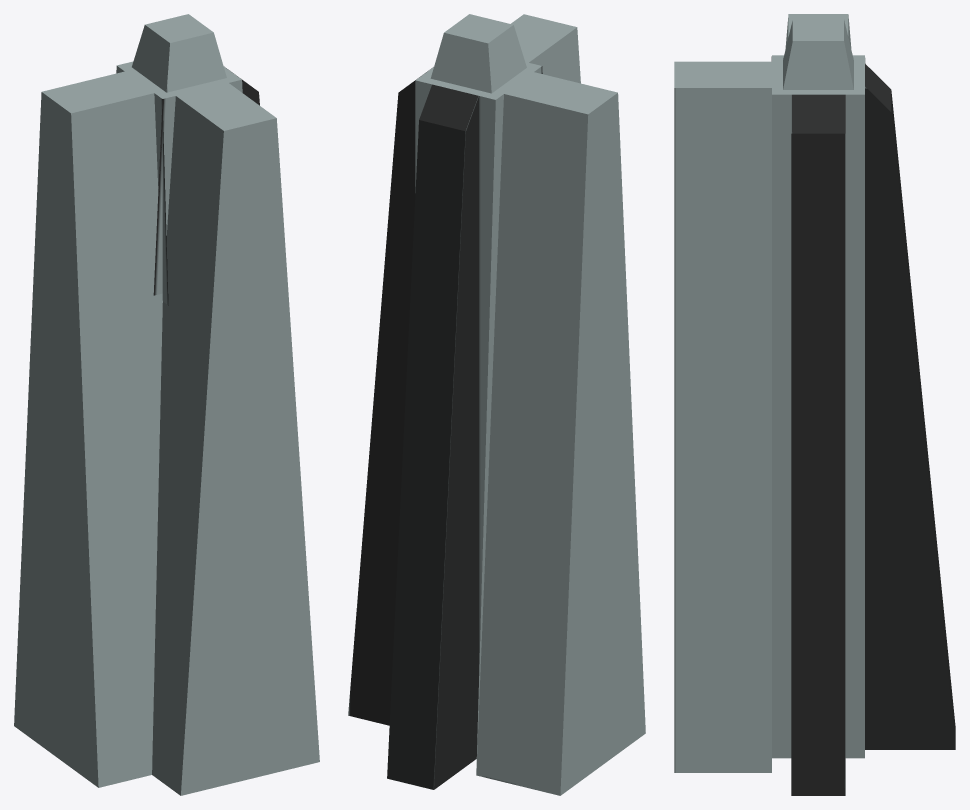
Rendered from ganymedeCornerRib.obj.
3 views of the same model, side by side, from view 1: azimuth 30°, elevation 25°; view 2: azimuth 150°, elevation 25°; view 3: azimuth 270°, elevation 25° (orthographic).
Parts seen in each view (by area): view 1: Cube.005; view 2: Cube.005; view 3: Cube.005.
Part boxes in pixels (x1,y1,x2,y2): Cube.005: (14,14,319,795); Cube.005: (348,14,645,795); Cube.005: (674,14,955,795).
Size of the model in its own units: 1.44 by 4.03 by 1.45.
1 material, 1 textured.
